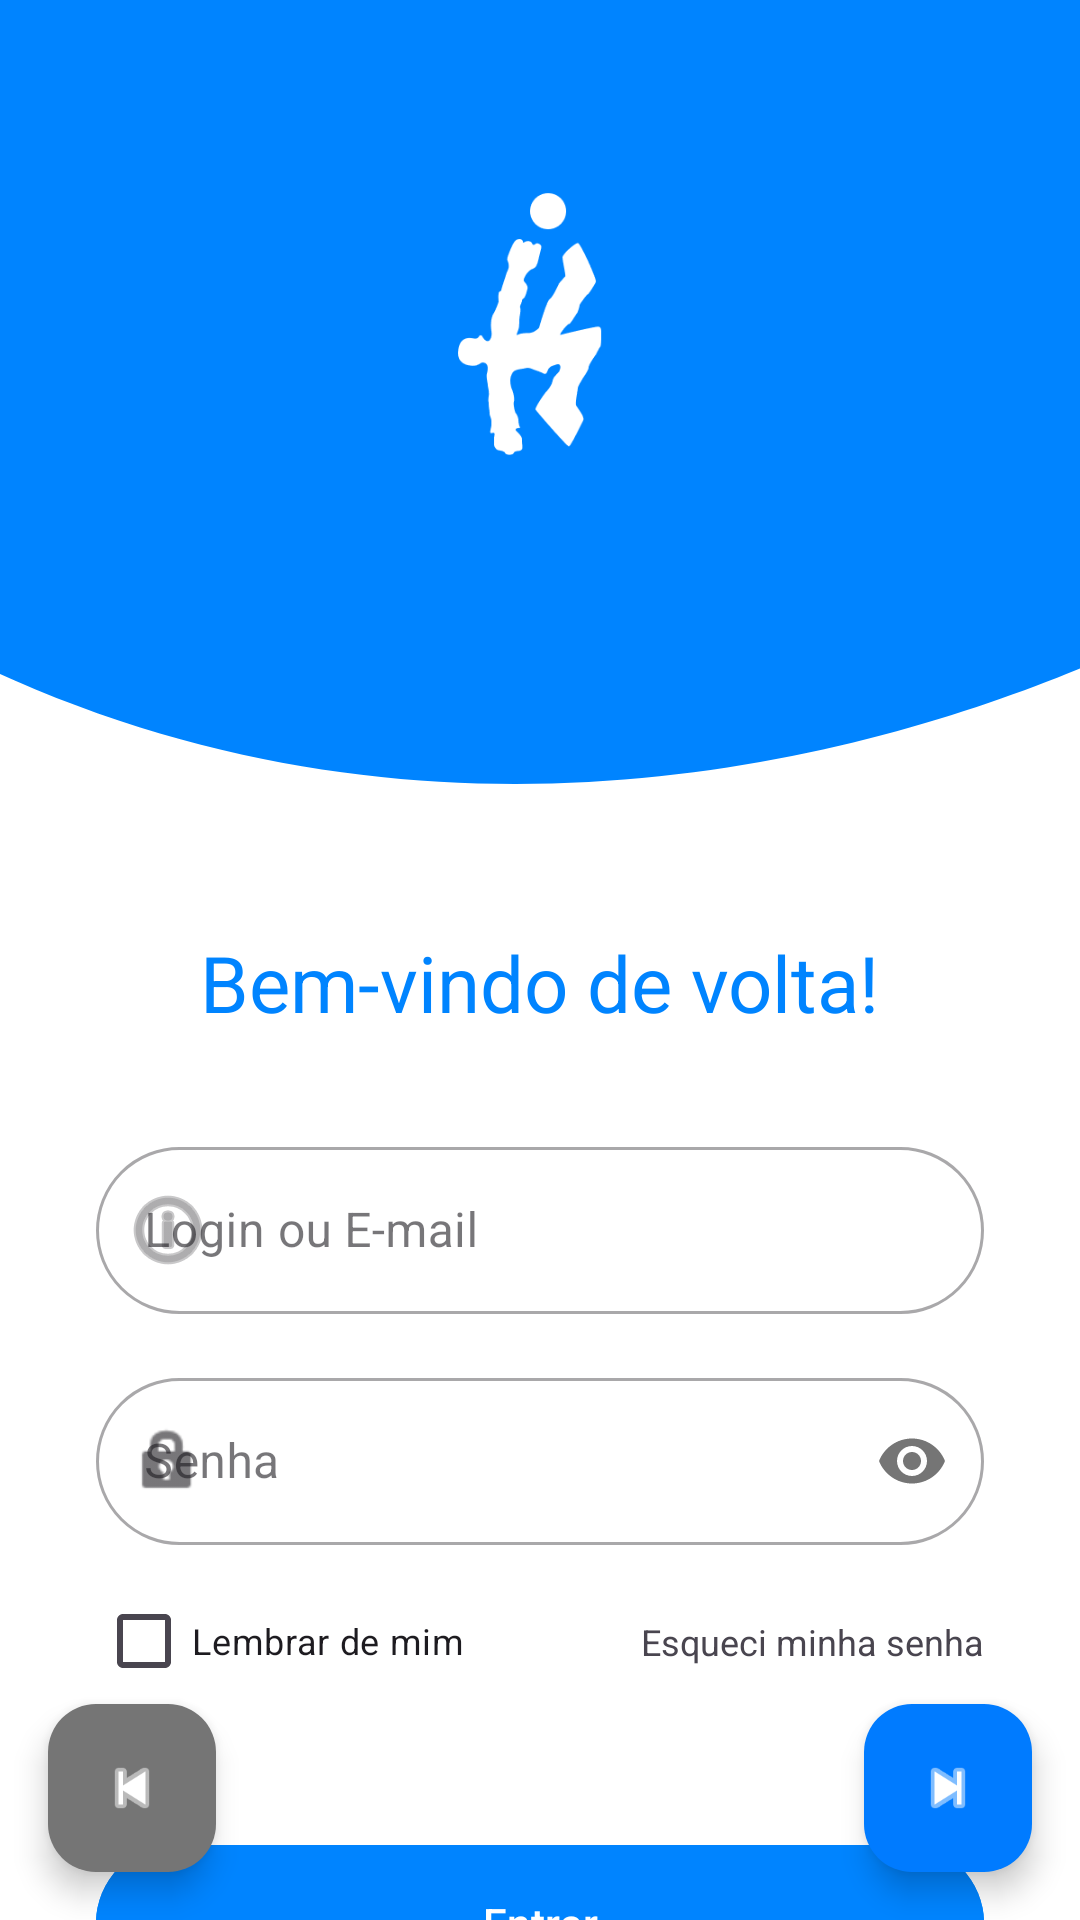

Icon click points for this 1080x1920 phone screenshot, format (x=x, y=y):
next: (x=948, y=1788)
previous: (x=132, y=1788)
